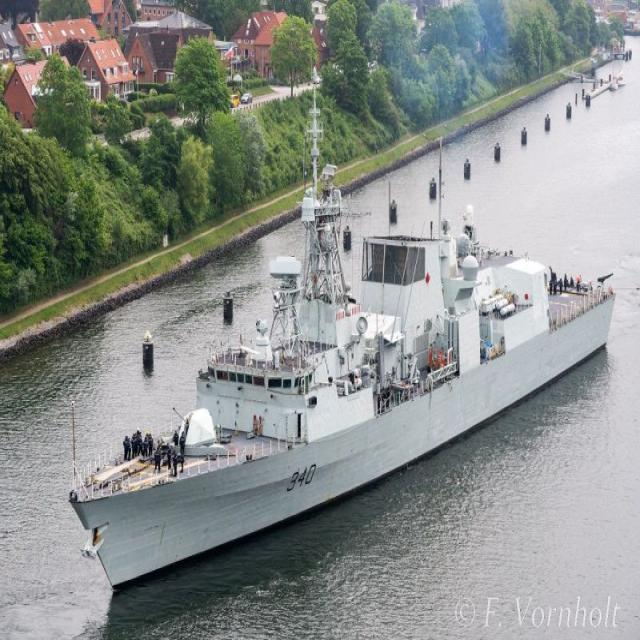Fragata: (62, 54, 625, 598)
